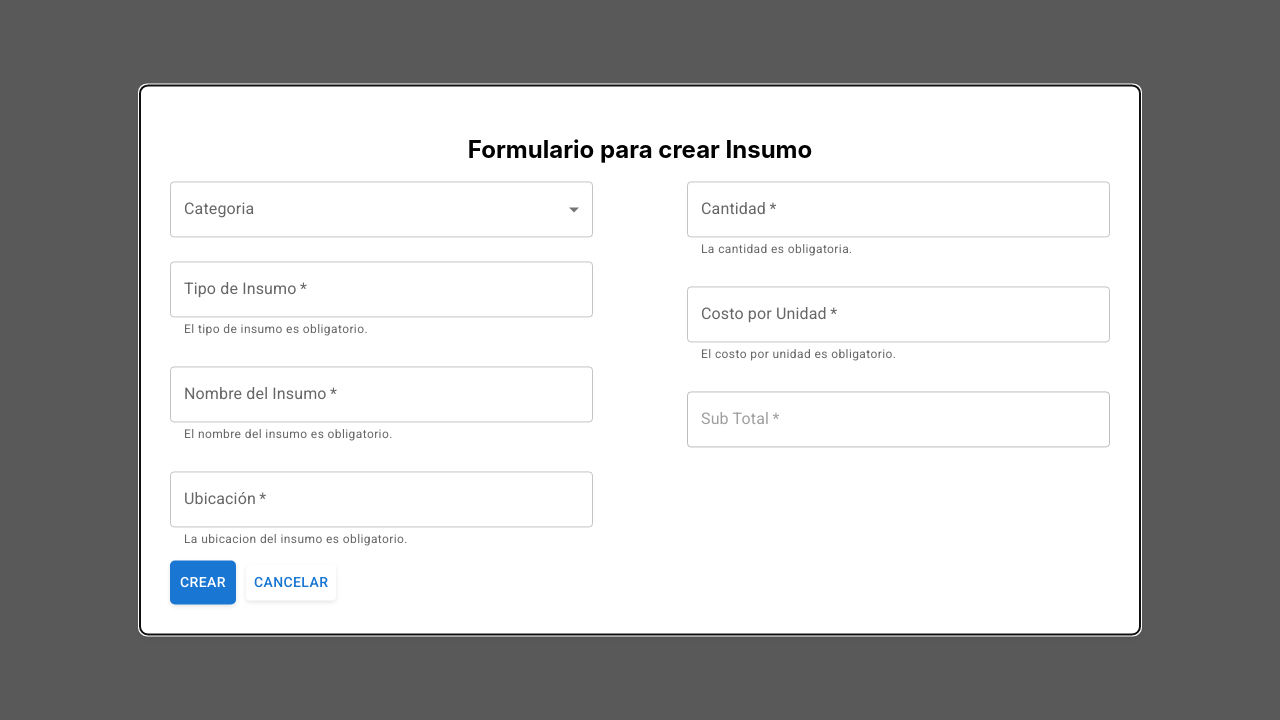
Test case: InsumoFormModal › actualiza subtotal al cambiar cantidad y costo unidad
Type "5" into the field labelled "Cantidad *" at (898, 209), box [687, 181, 1110, 237]
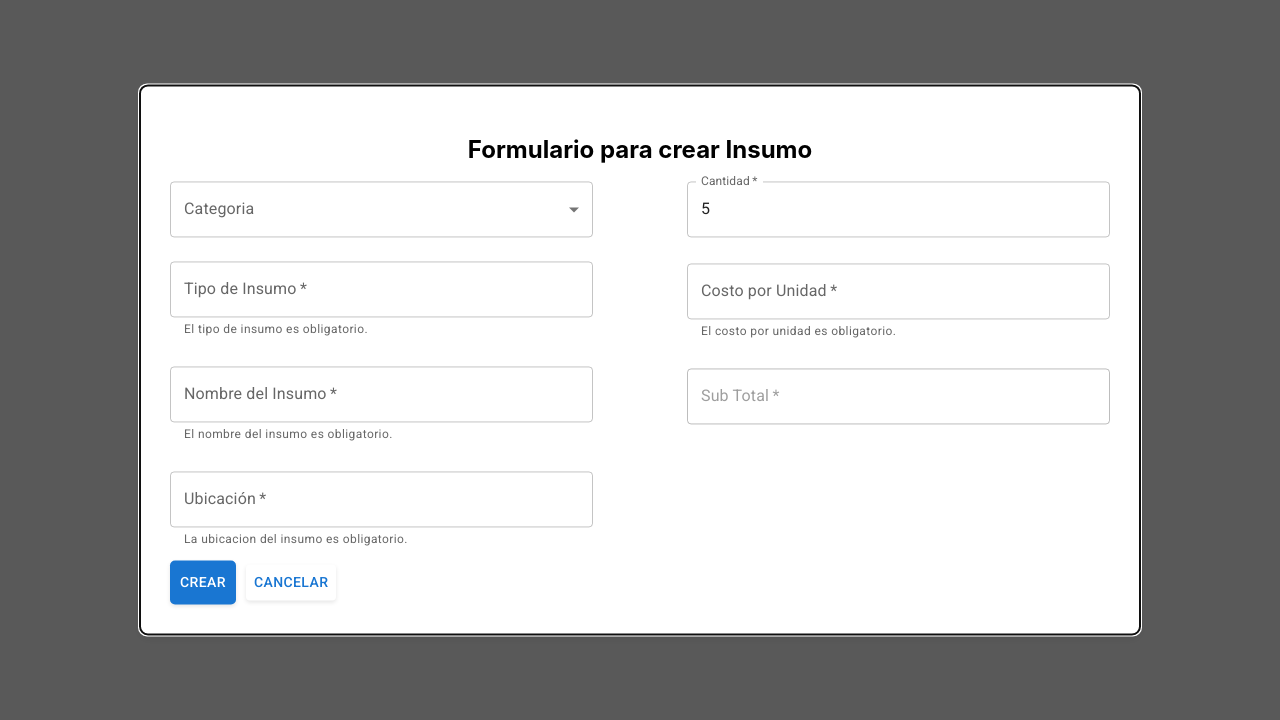
Type "10" into the field labelled "Costo por Unidad *" at (898, 291), box [687, 263, 1110, 319]
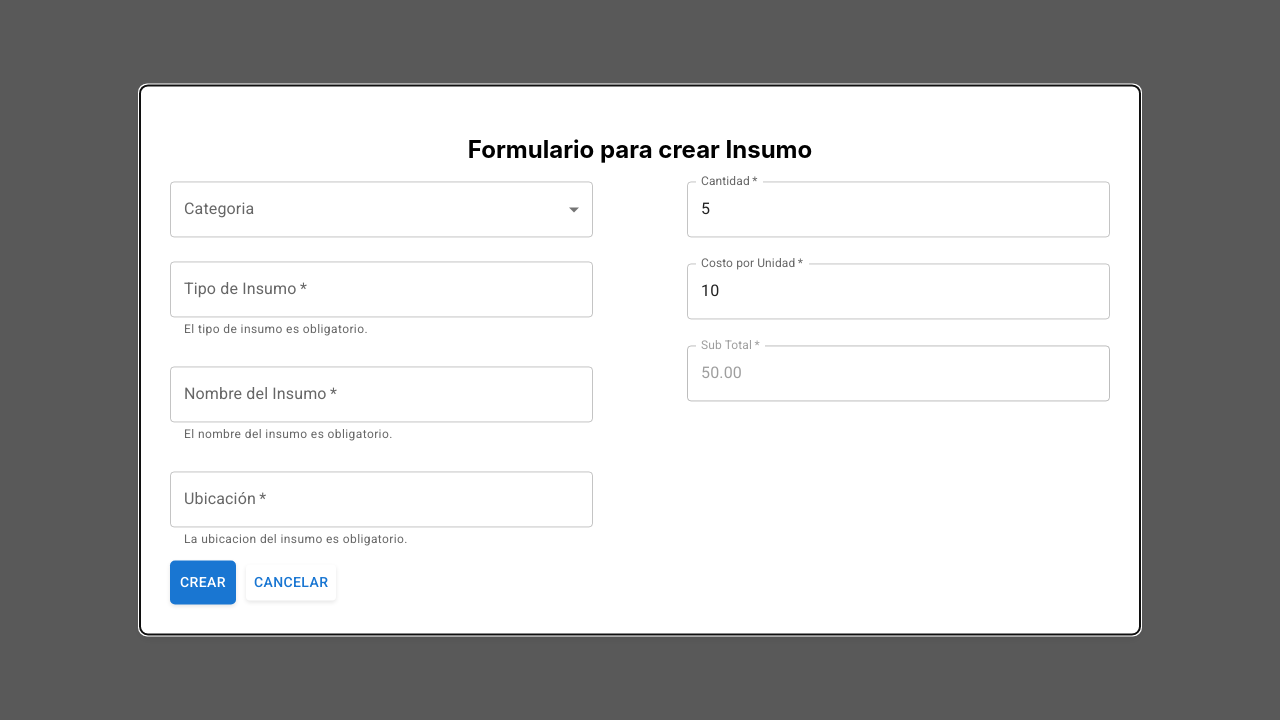
Check: the field labelled "Sub Total *" holds "50.00", box [687, 345, 1110, 401]
